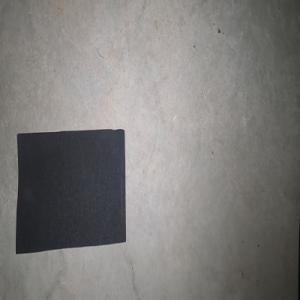PaintChip: (15, 128, 126, 254)
